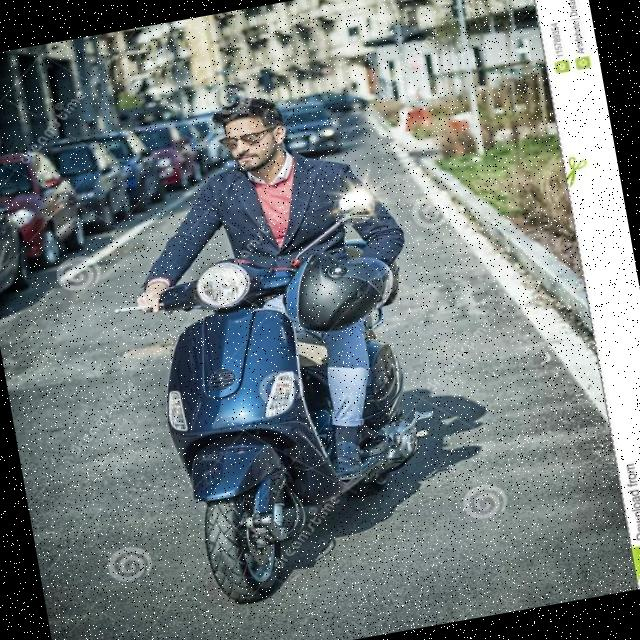No helmet: (205, 86, 304, 191)
